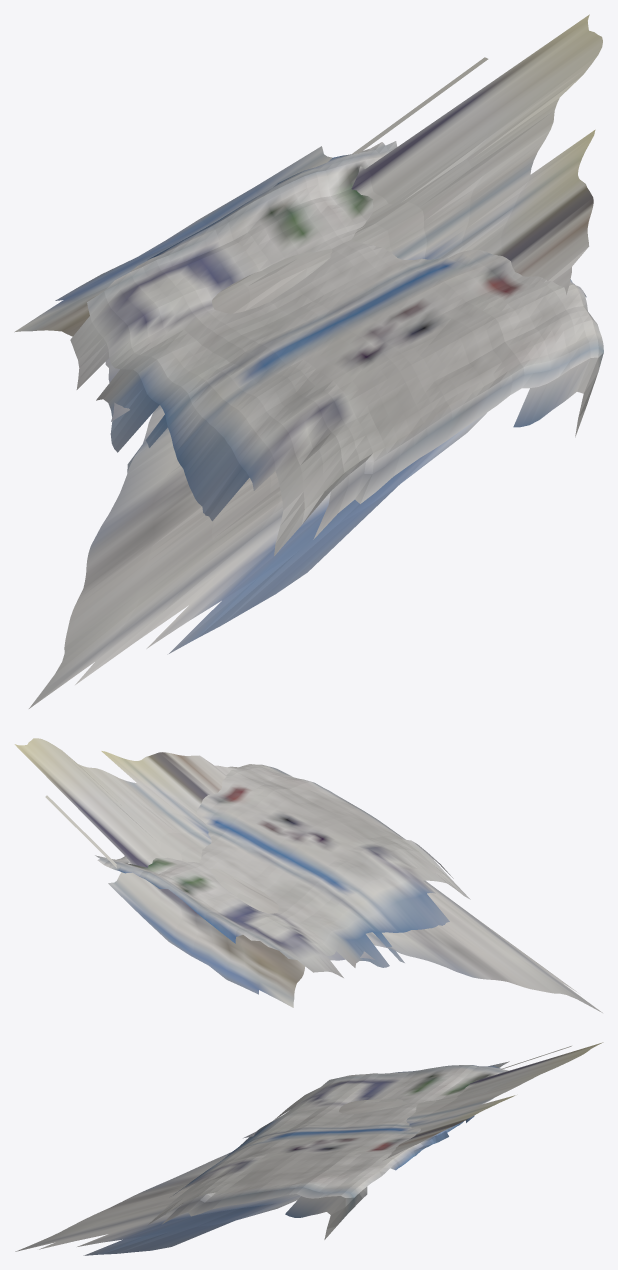
File: entity-sign-15.glb
The picture shows the model from 3 angles, top to bottom: view 1: azimuth 30°, elevation 25°; view 2: azimuth 150°, elevation 25°; view 3: azimuth 330°, elevation 25°; orthographic projection. The views are drawn at different scales.
Parts seen in each view (by area): view 1: geometry_0; view 2: geometry_0; view 3: geometry_0.
Boxes of the visible parts, <box> form: geometry_0: <box>14,14,603,708</box>; geometry_0: <box>14,738,602,1012</box>; geometry_0: <box>15,1042,603,1255</box>.
Bounding box in the file's own units: 1.38 × 0.6677 × 0.9275.
